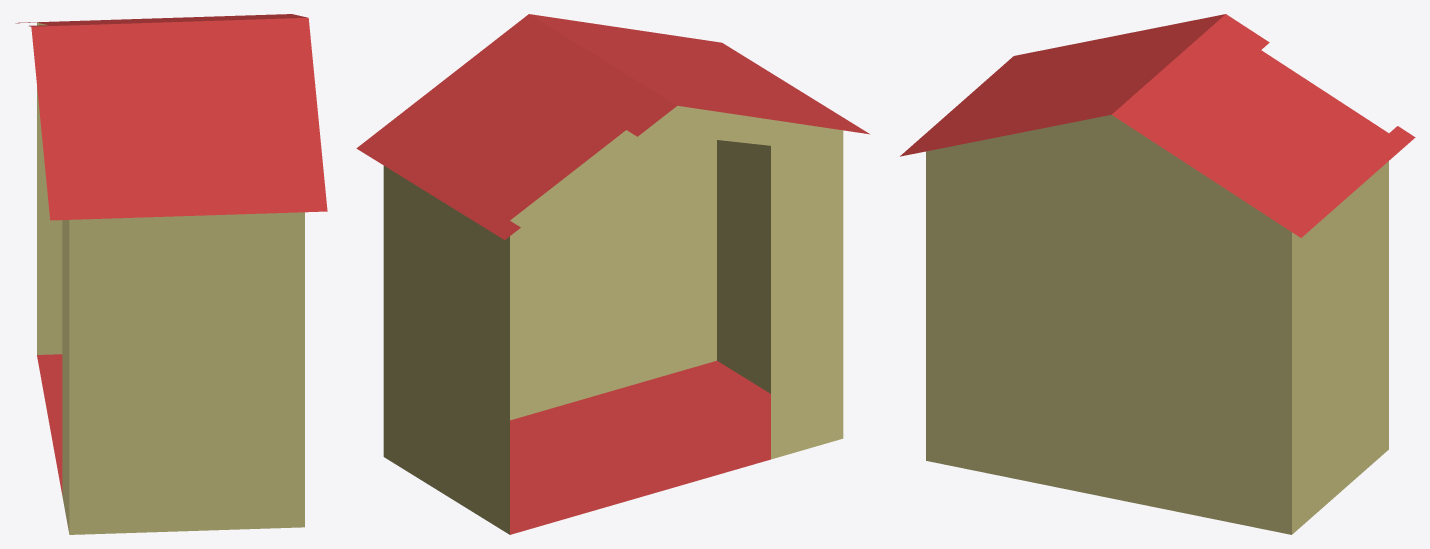
The picture shows the model from 3 angles, left to right: view 1: azimuth 30°, elevation 25°; view 2: azimuth 150°, elevation 25°; view 3: azimuth 270°, elevation 25°; orthographic projection. The views are drawn at different scales.
Bounding box in the file's own units: 10.85 × 12.99 × 10.91.
